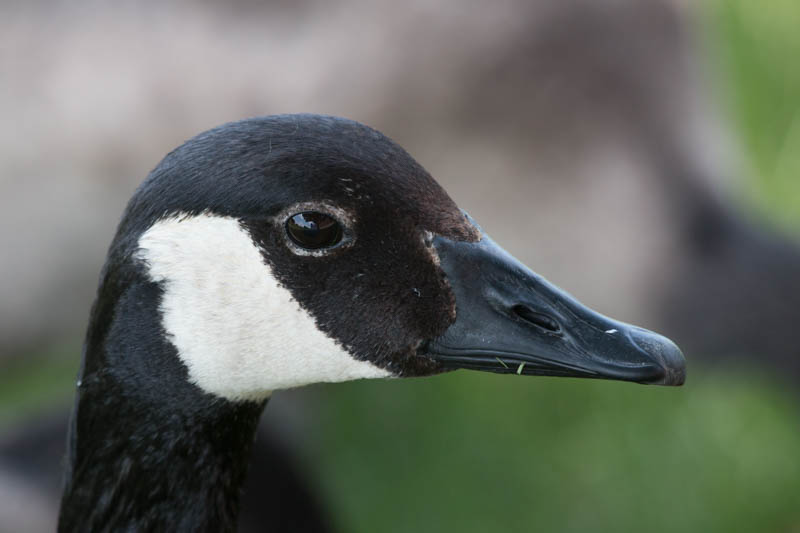goose-head: (87, 112, 688, 404)
